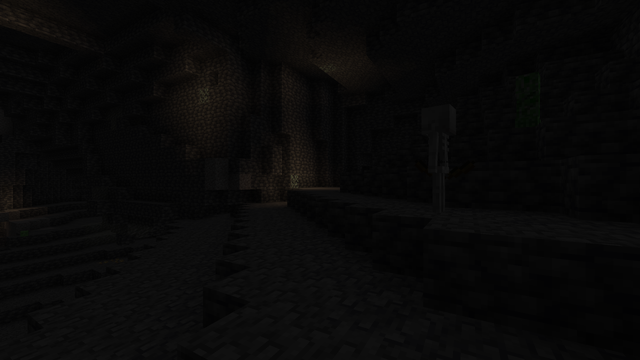creepers: (513, 67, 543, 120)
slimes: (19, 230, 28, 236)
squelettes: (419, 103, 455, 214)
